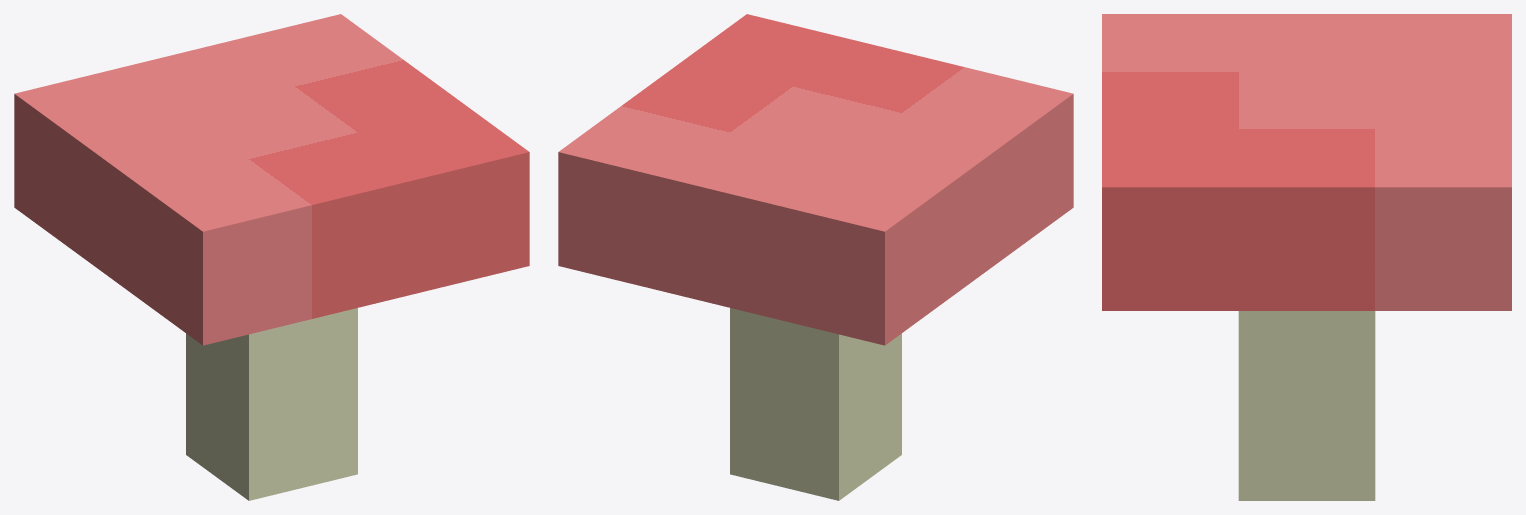
File: mushroom1.obj
3 views of the same model, side by side, from view 1: azimuth 30°, elevation 25°; view 2: azimuth 150°, elevation 25°; view 3: azimuth 270°, elevation 25° (orthographic). The views are drawn at different scales.
Parts seen in each view (by area): view 1: PlumpStandardMushroom_14; view 2: PlumpStandardMushroom_14; view 3: PlumpStandardMushroom_14.
Part boxes in pixels (left/top/right/bottom): PlumpStandardMushroom_14: left=14, top=14, right=529, bottom=500; PlumpStandardMushroom_14: left=558, top=14, right=1073, bottom=500; PlumpStandardMushroom_14: left=1102, top=14, right=1511, bottom=500.
Bounding box in the file's own units: 3 × 3 × 3.
1 material, 1 textured.
